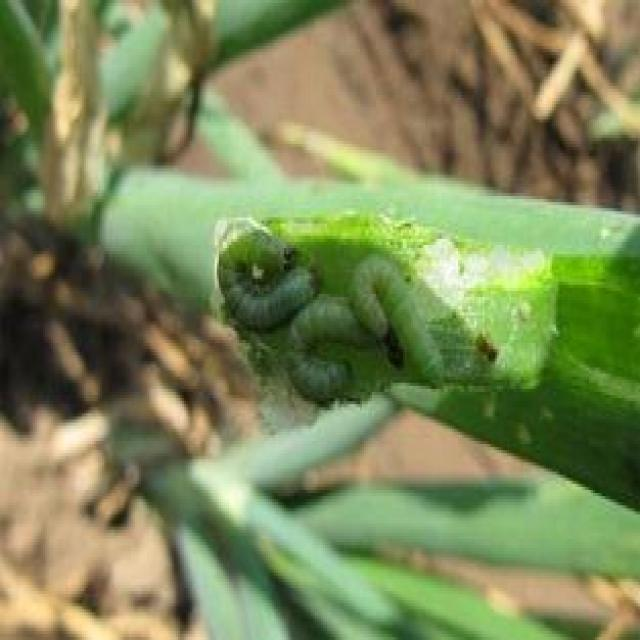BeetArmyWorm-Larva-: (346, 244, 452, 392), (281, 286, 402, 407), (209, 215, 322, 335)
